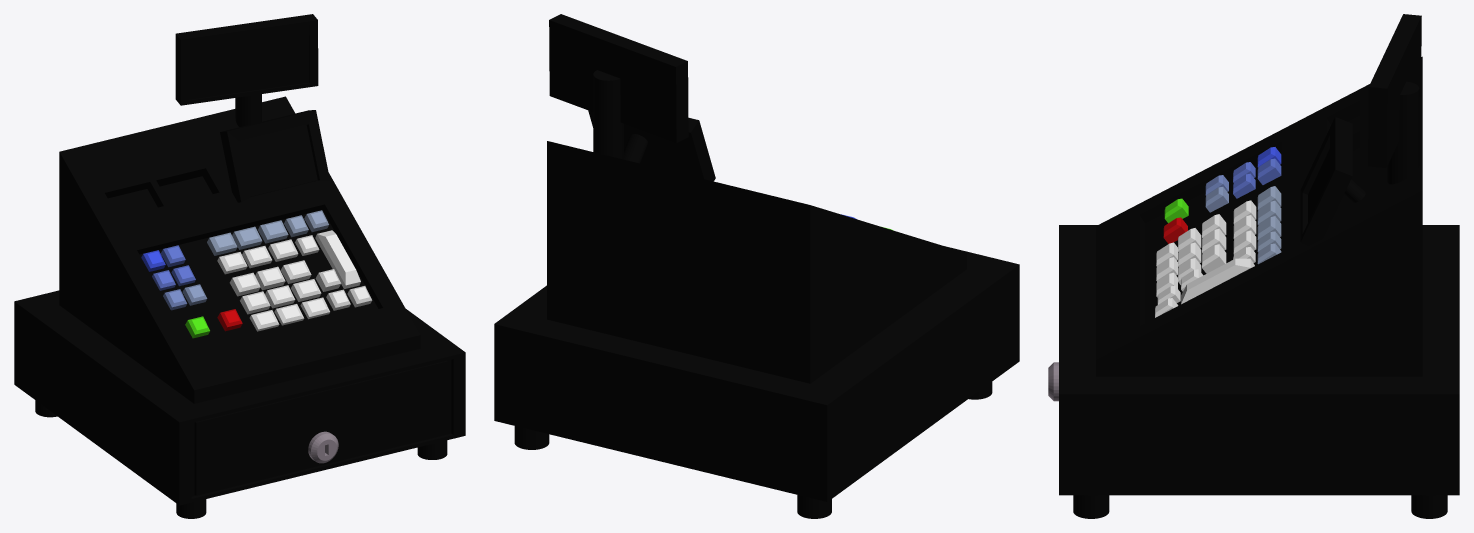
Rendered from CashRegister.fbx.
3 views of the same model, side by side, from view 1: azimuth 30°, elevation 25°; view 2: azimuth 150°, elevation 25°; view 3: azimuth 270°, elevation 25° (orthographic). The views are drawn at different scales.
Parts seen in each view (by area): view 1: Cube.001, Cube, Cube.003, Cube.002, Cube.022, Cylinder.005, Cylinder.004, Cube.018, Cube.020, Cube.019; view 2: Cube, Cube.001, Cube.003, Cube.002, Cylinder.005, Cylinder.003, Cylinder.002; view 3: Cube, Cube.001, Cube.003, Cube.002, Cylinder.005, Cube.022, Cylinder.001, Cylinder.002, Cube.020.
Part boxes in pixels (x1,y1,x2,y2): Cube.001: [59, 96, 420, 403]; Cube: [14, 290, 465, 505]; Cube.003: [175, 14, 318, 105]; Cube.002: [220, 110, 329, 202]; Cube.022: [315, 230, 360, 289]; Cylinder.005: [235, 94, 261, 126]; Cylinder.004: [308, 431, 338, 463]; Cube.018: [229, 272, 260, 296]; Cube.020: [280, 260, 311, 283]; Cube.019: [255, 266, 285, 290]; Cube: [494, 246, 1019, 501]; Cube.001: [547, 141, 966, 383]; Cube.003: [549, 14, 688, 142]; Cube.002: [588, 110, 715, 181]; Cylinder.005: [593, 70, 623, 159]; Cylinder.003: [797, 495, 831, 518]; Cylinder.002: [514, 426, 549, 449]; Cube: [1059, 225, 1459, 495]; Cube.001: [1096, 56, 1422, 376]; Cube.003: [1368, 14, 1421, 167]; Cube.002: [1300, 117, 1352, 245]; Cylinder.005: [1387, 81, 1419, 184]; Cube.022: [1181, 258, 1254, 304]; Cylinder.001: [1073, 495, 1109, 518]; Cylinder.002: [1411, 495, 1447, 518]; Cube.020: [1202, 244, 1226, 273].
Bounding box in the file's own units: 292 × 341 × 300.
